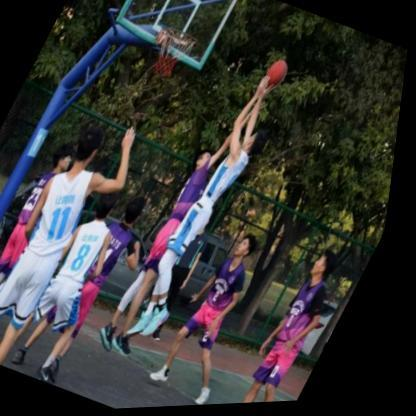basketball: (262, 60, 294, 94)
